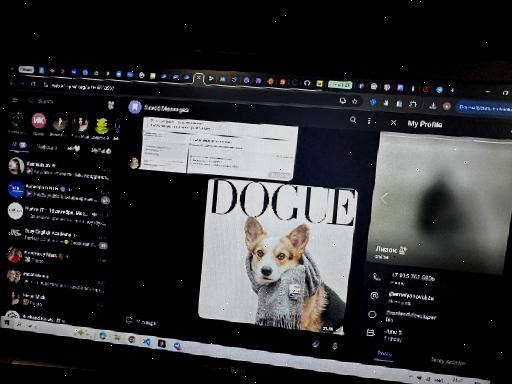telegram: (0, 85, 512, 371)
